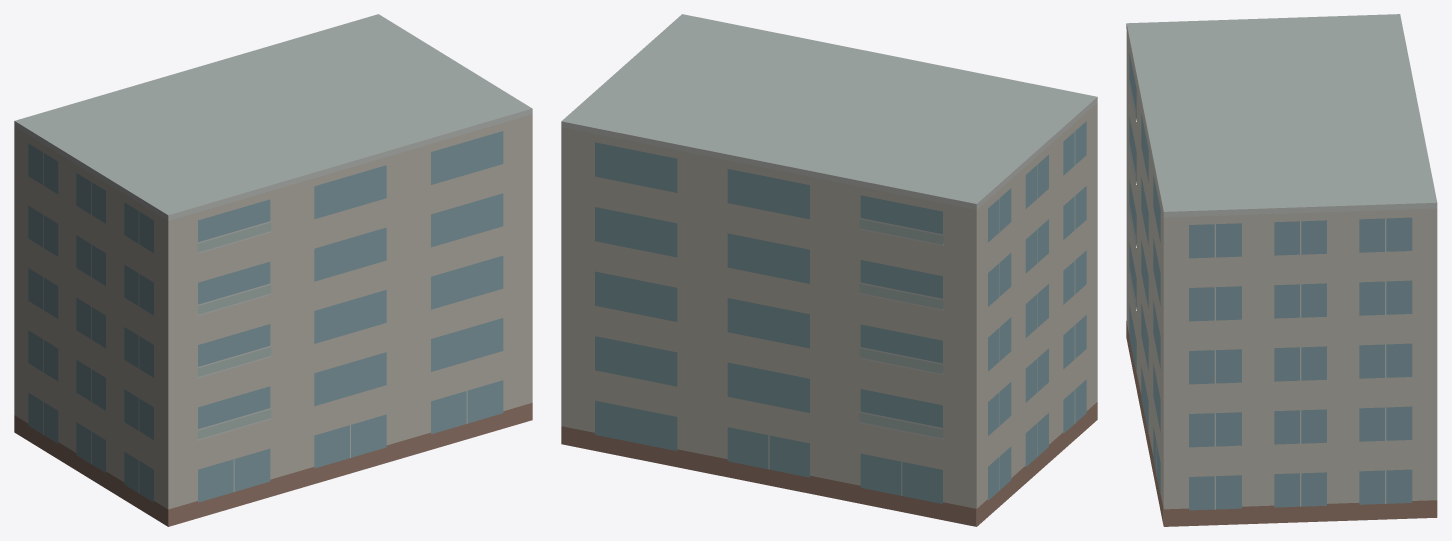
Rendered from survey-upis-32759000.glb.
3 views of the same model, side by side, from view 1: azimuth 30°, elevation 25°; view 2: azimuth 150°, elevation 25°; view 3: azimuth 270°, elevation 25° (orthographic). The views are drawn at different scales.
Parts seen in each view (by area): view 1: survey-upis-32759000.tmp; view 2: survey-upis-32759000.tmp; view 3: survey-upis-32759000.tmp.
Part boxes in pixels (x1=…): survey-upis-32759000.tmp: x1=14, y1=14, x2=532, y2=526; survey-upis-32759000.tmp: x1=561, y1=14, x2=1097, y2=526; survey-upis-32759000.tmp: x1=1126, y1=14, x2=1437, y2=526.
Bounding box in the file's own units: 18.14 × 13.45 × 12.04.
